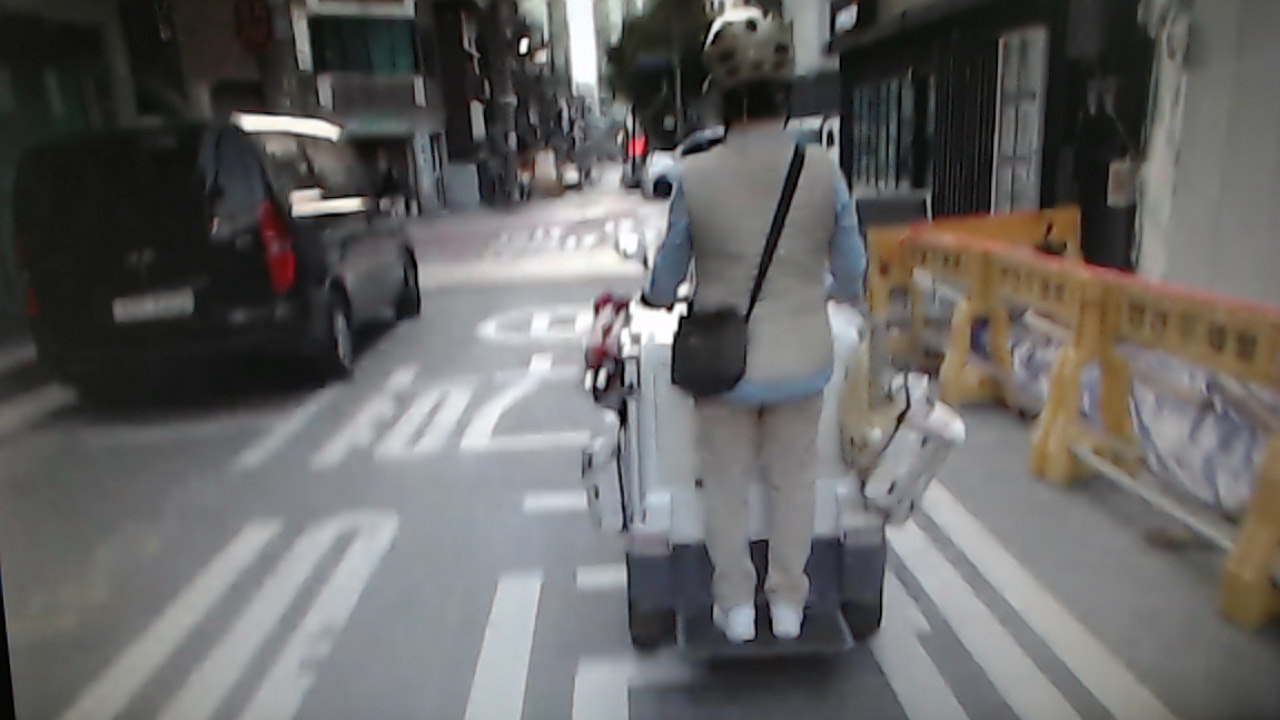Yakurut: (644, 8, 875, 658)
